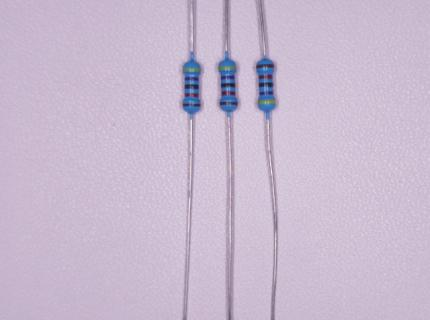Black band: (221, 83, 235, 88), (259, 83, 274, 87), (185, 85, 199, 89)
Brown band: (256, 64, 275, 68), (183, 103, 201, 107), (220, 101, 238, 105)
Red band: (258, 75, 273, 79), (185, 93, 199, 97), (222, 91, 236, 95)
Violet band: (184, 77, 199, 81), (259, 91, 273, 95), (221, 76, 235, 79)
Yellow band: (257, 100, 276, 104), (218, 66, 236, 70), (183, 68, 201, 71)
